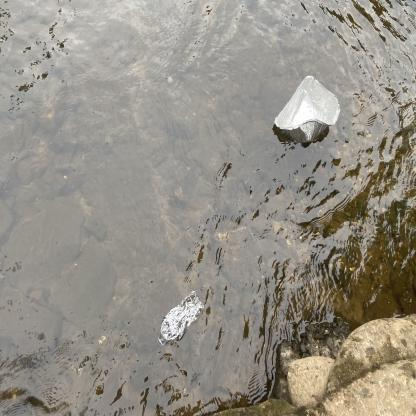trash: (270, 69, 343, 150), (154, 288, 209, 354)
